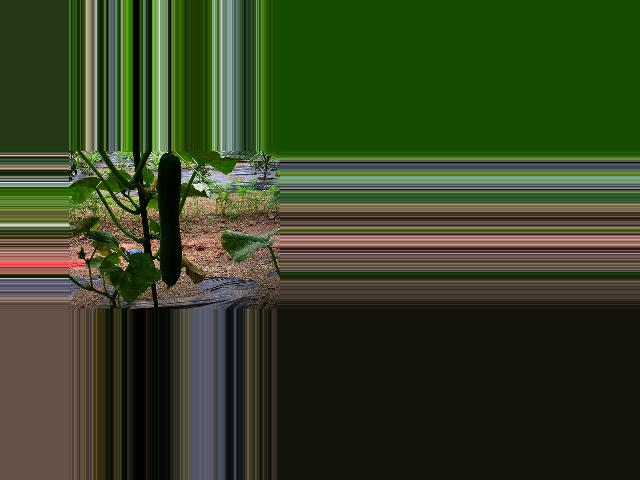cucumber: (157, 153, 182, 290)
